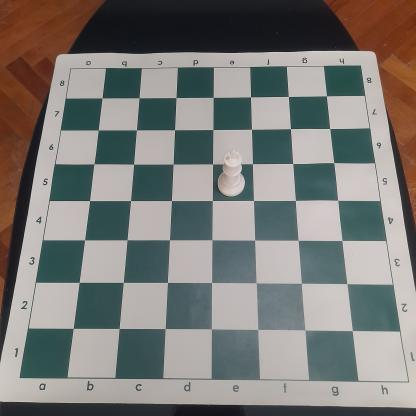white-king: (216, 148, 247, 198)
